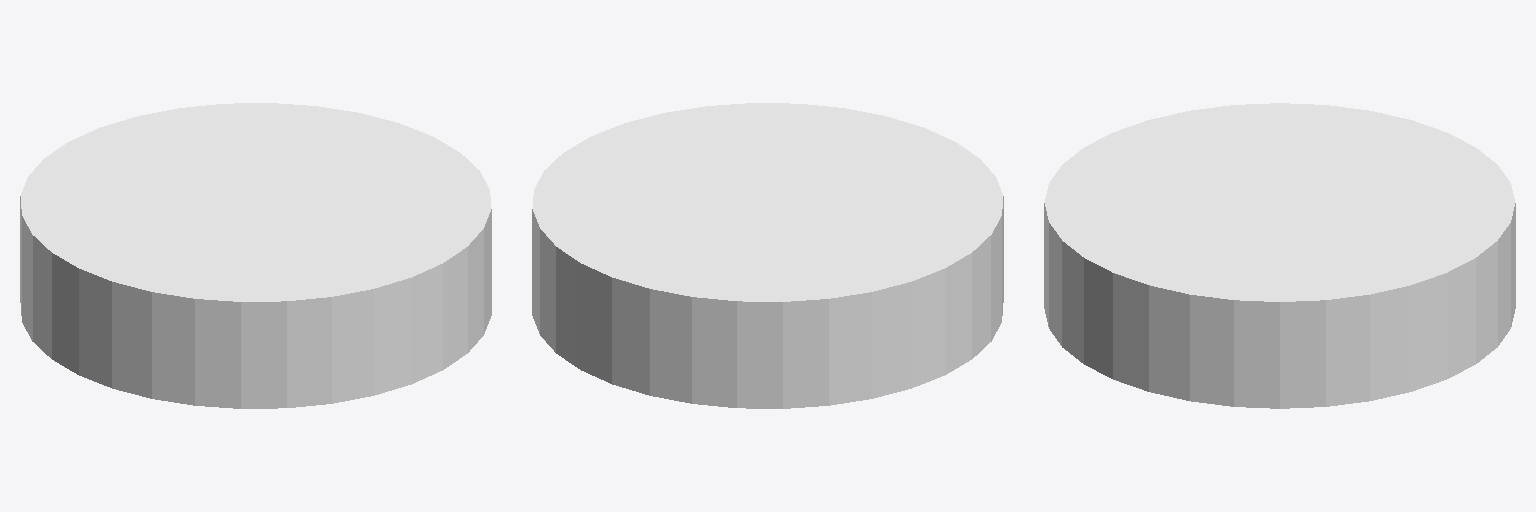
The robot description file, URDF, robot "target":
<?xml version="1.0" ?>
<!-- =================================================================================== -->
<!-- |    This document was autogenerated by xacro from target_cylinderS.xacro         | -->
<!-- |    EDITING THIS FILE BY HAND IS NOT RECOMMENDED                                 | -->
<!-- =================================================================================== -->
<robot name="target" xmlns:xacro="http://www.ros.org/wiki/xacro">
  <link name="target">
    <contact>
      <lateral_friction value="1"/>
    </contact>
    <inertial>
      <origin rpy="0 0 0" xyz="0 0 0"/>
      <mass value="0.5"/>
      <!--<inertia ixx="${1/12*mass*(3*radius*radius+length*length)}" ixy="0" ixz="0"-->
      <!--iyy="${1/12*mass*(3*radius*radius+length*length)}" iyz="0"-->
      <!--izz="${1/2*mass*radius*radius}"/>-->
      <inertia ixx="5.41666666667e-05" ixy="0" ixz="0" iyy="5.41666666667e-05" iyz="0" izz="0.0001"/>
    </inertial>
    <visual>
      <origin rpy="0 0 0" xyz="0 0 0"/>
      <geometry>
        <cylinder length="0.01" radius="0.02"/>
      </geometry>
      <material name="white">
        <color rgba="1 1 1 1"/>
      </material>
    </visual>
    <collision>
      <origin rpy="0 0 0" xyz="0 0 0"/>
      <geometry>
        <cylinder length="0.01" radius="0.02"/>
      </geometry>
    </collision>
  </link>
</robot>

--- Facts derived from the render (not from the file) ---
The picture shows the robot from 3 angles, left to right: view 1: azimuth 30°, elevation 25°; view 2: azimuth 150°, elevation 25°; view 3: azimuth 270°, elevation 25°; orthographic projection.
Model target with 1 links and 0 joints (none), rooted at target, posed all joints at 0.
Visible links, largest first — view 1: target; view 2: target; view 3: target.
Link boxes in pixels (x1,y1,x2,y2): target: [20, 103, 491, 408]; target: [532, 103, 1003, 408]; target: [1044, 103, 1515, 408].
Size in the robot's own frame: 0.04 by 0.04 by 0.01 metres.
Geometry: primitives only (box / cylinder / sphere), no mesh files.